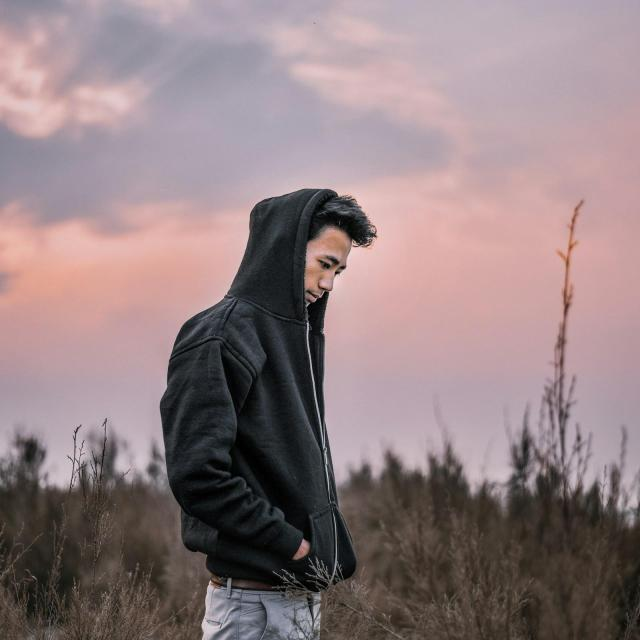4_capucha: (223, 185, 342, 328)
